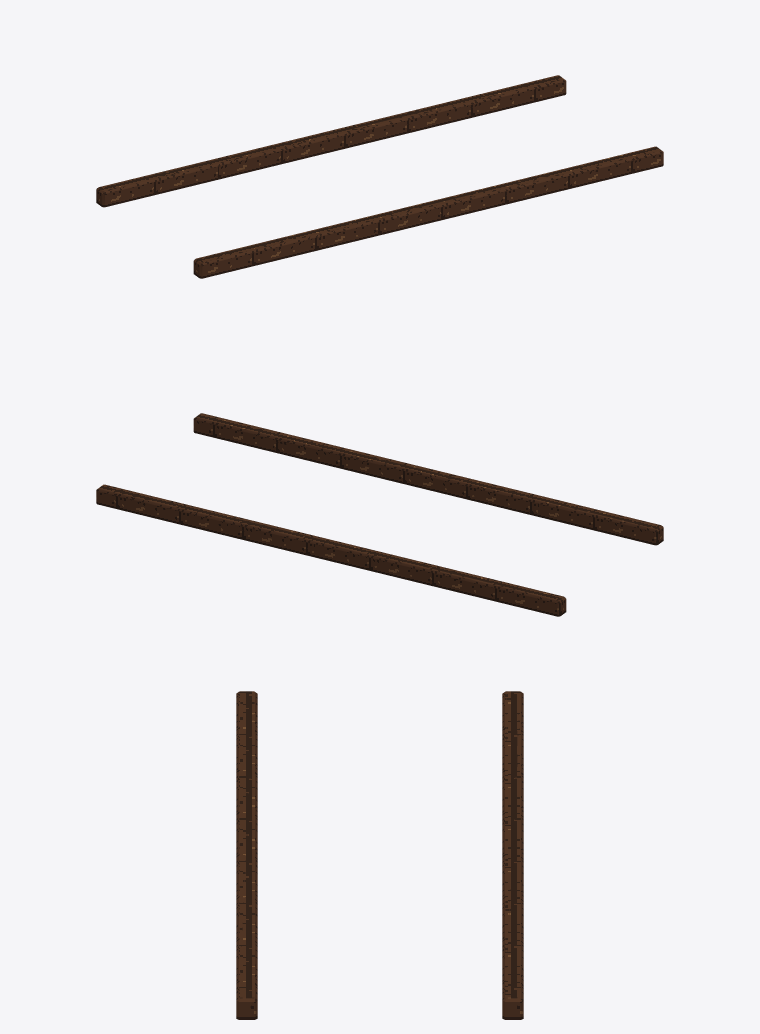
File: dgn.ceiling__flat_3x3.glb
3 renders of one model, top to bottom at view 1: azimuth 30°, elevation 25°; view 2: azimuth 150°, elevation 25°; view 3: azimuth 270°, elevation 25°, orthographic. The views are drawn at different scales.
Visible parts, largest first — view 1: kit_beams; view 2: kit_beams; view 3: kit_beams.
Boxes of the visible parts, box(x1,y1,x2,y2) form: kit_beams: box(96, 75, 663, 278); kit_beams: box(96, 413, 663, 616); kit_beams: box(236, 691, 523, 1019).
Bounding box in the file's own units: 11 × 0.34 × 11.
2 materials, 2 textured.
